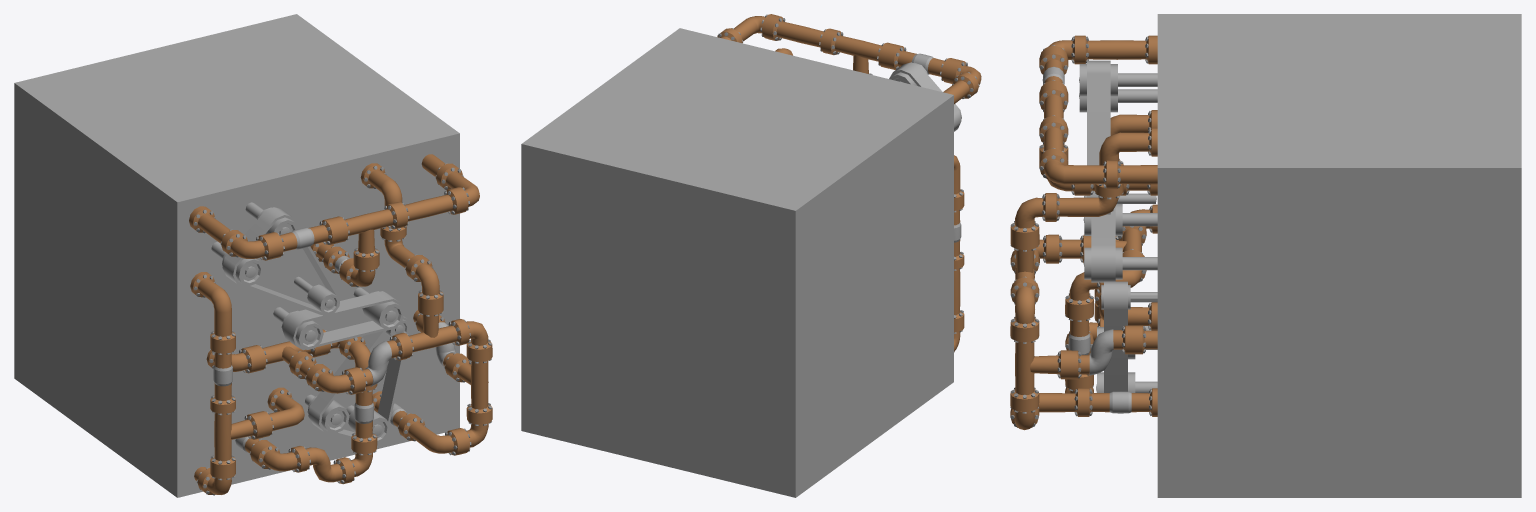
Rendered from gj_wall_001 (broken).fbx.
3 views of the same model, side by side, from view 1: azimuth 30°, elevation 25°; view 2: azimuth 150°, elevation 25°; view 3: azimuth 270°, elevation 25° (orthographic). The views are drawn at different scales.
Visible parts, largest first — view 1: gj_wall_001; view 2: gj_wall_001; view 3: gj_wall_001.
Part boxes in pixels (x1,y1,x2,y2): gj_wall_001: (14,14,492,497); gj_wall_001: (521,14,981,497); gj_wall_001: (1010,14,1521,497).
Size of the model in its own units: 0.7 by 0.7 by 0.9833.
